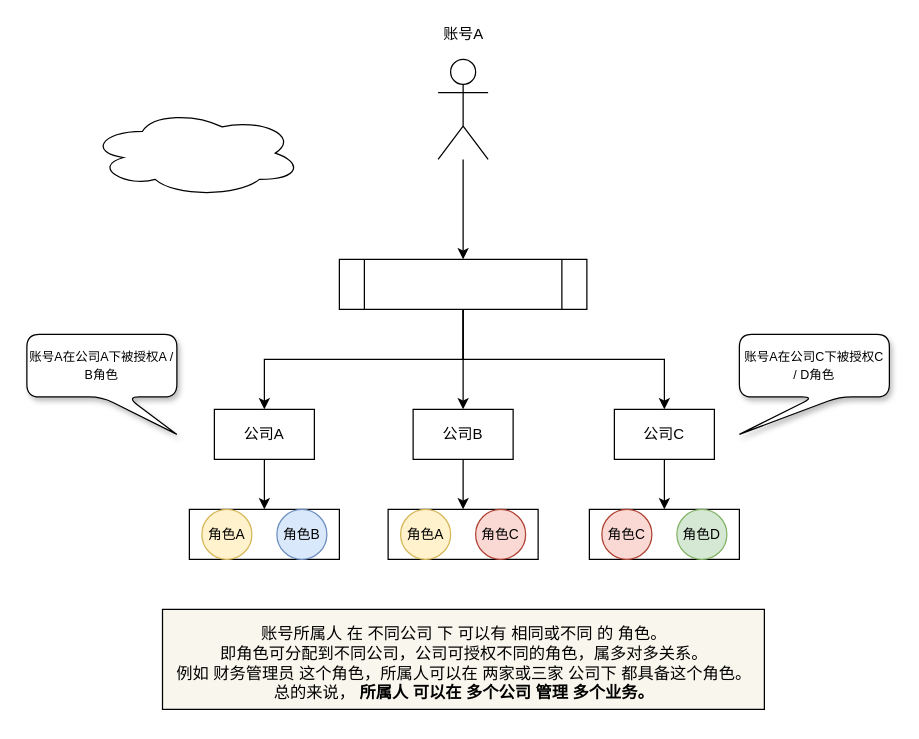
This 919x739 diagram has some shape labels left out. Each missing label, with the centre of its shape:
"1.授权模型" goes at pixel 195 152.
"通过公司/工厂授权角色" goes at pixel 462 283.
